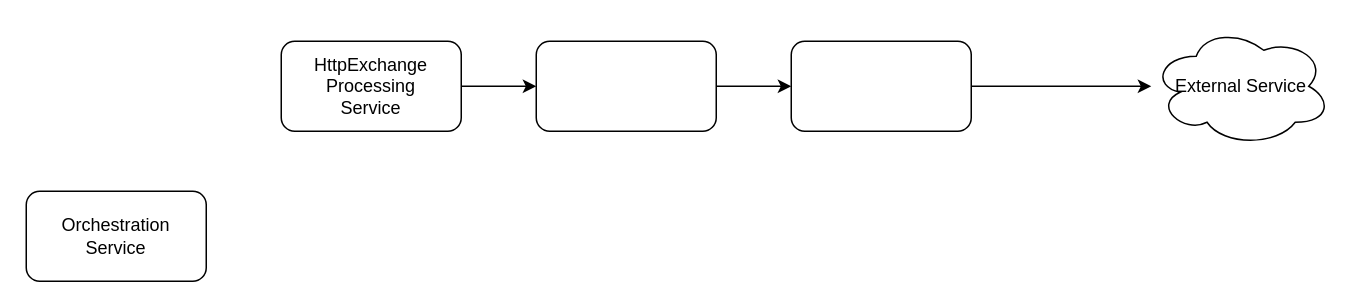
This 1358x308 diagram has some shape labels left out. The shapes that lost their labels are listed below. From the top down, each one's centre as x and y in pixels, then its label:
At point 625,85: "HttpExchange Foundation Service".
At point 880,85: "HttpBroker".
